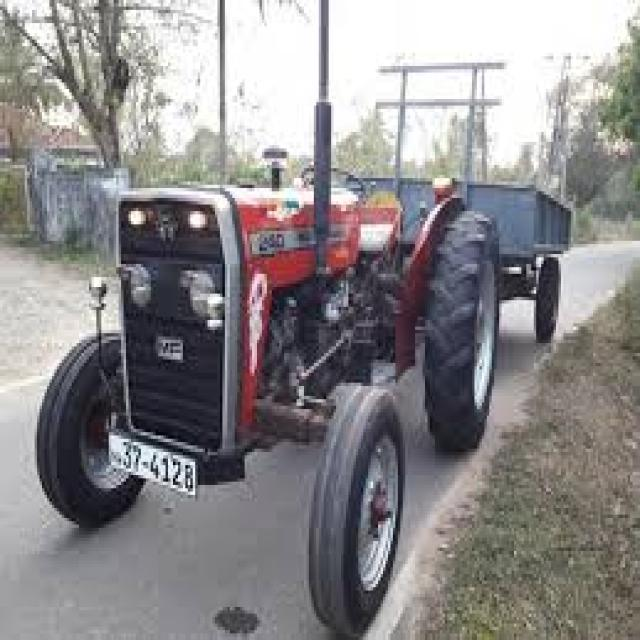tractor: (38, 174, 586, 620)
